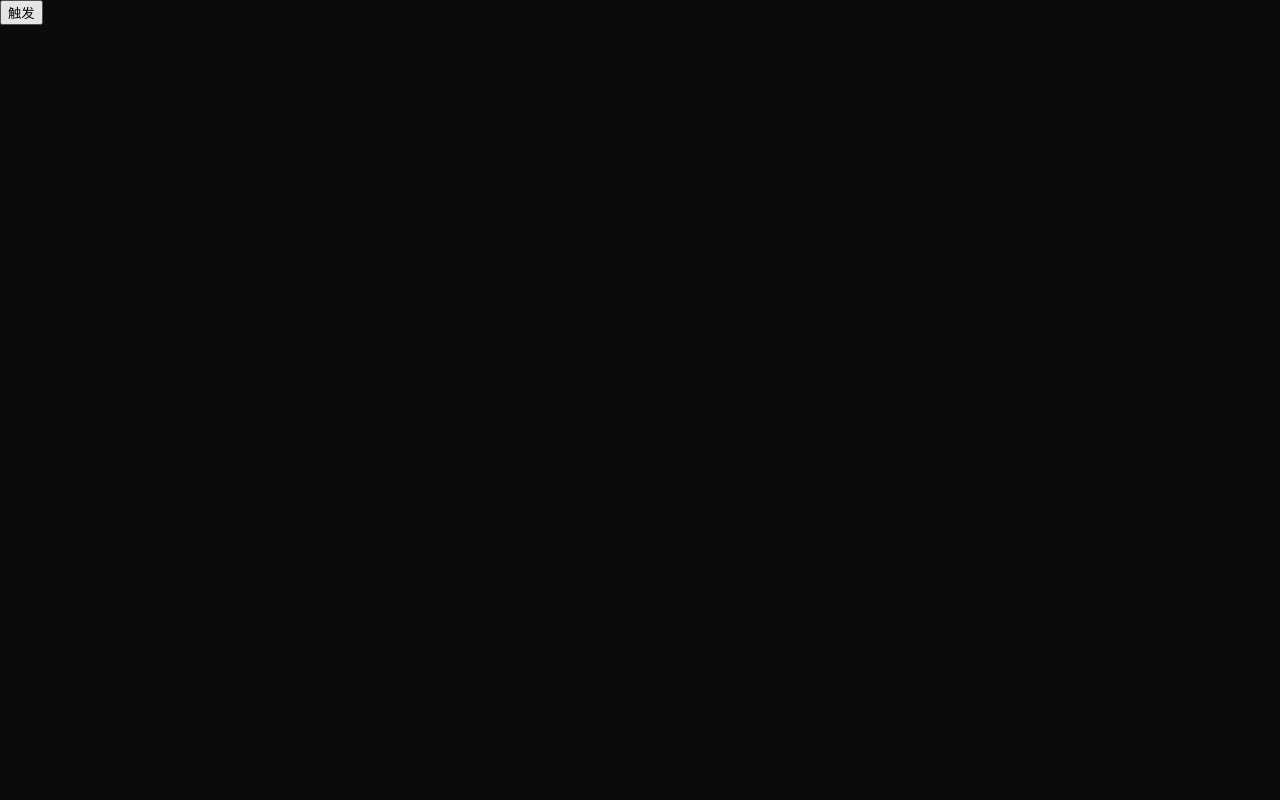
CommandPalette › 输入动作标题时只保留匹配的动作，节点结果为空
Type keys "{Control>}k{/Control}"
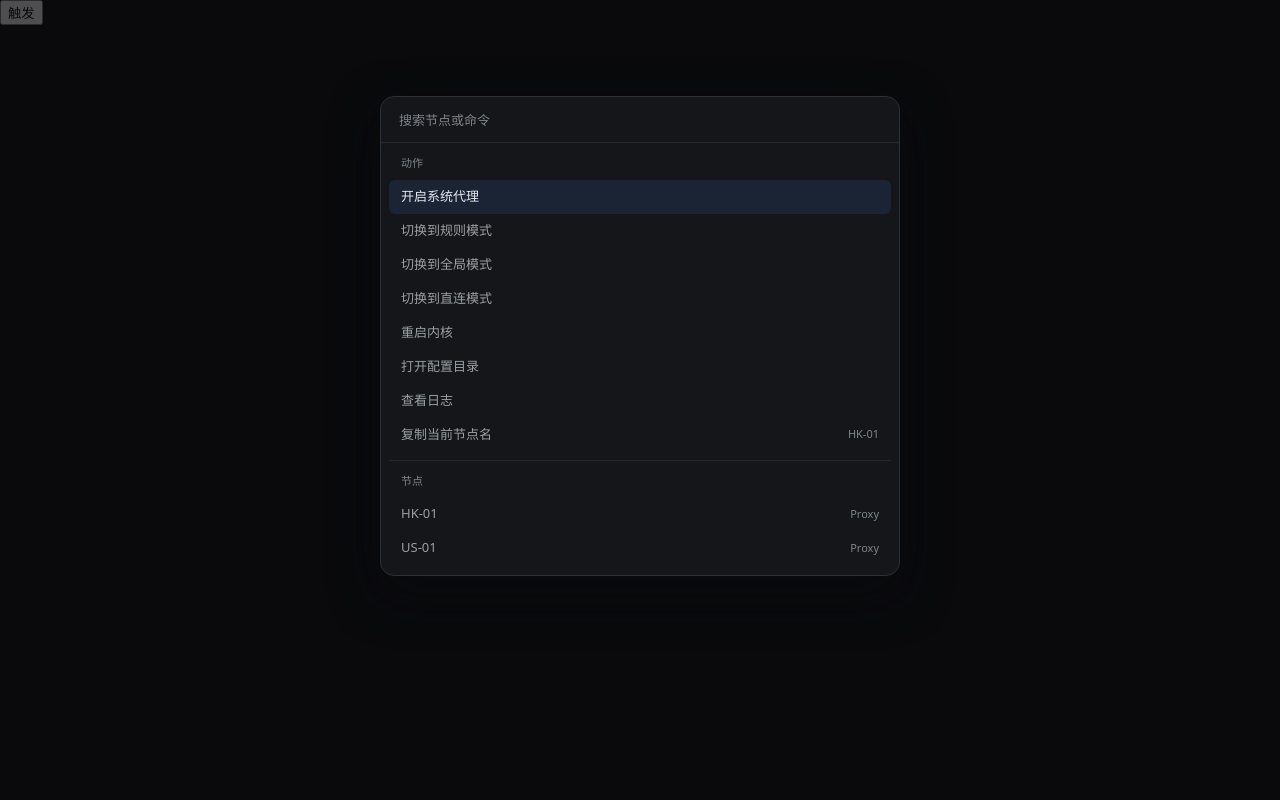
Type "重启" into the dropdown labelled "搜索节点或命令" at [640, 120], box x1=381 y1=97 x2=899 y2=143
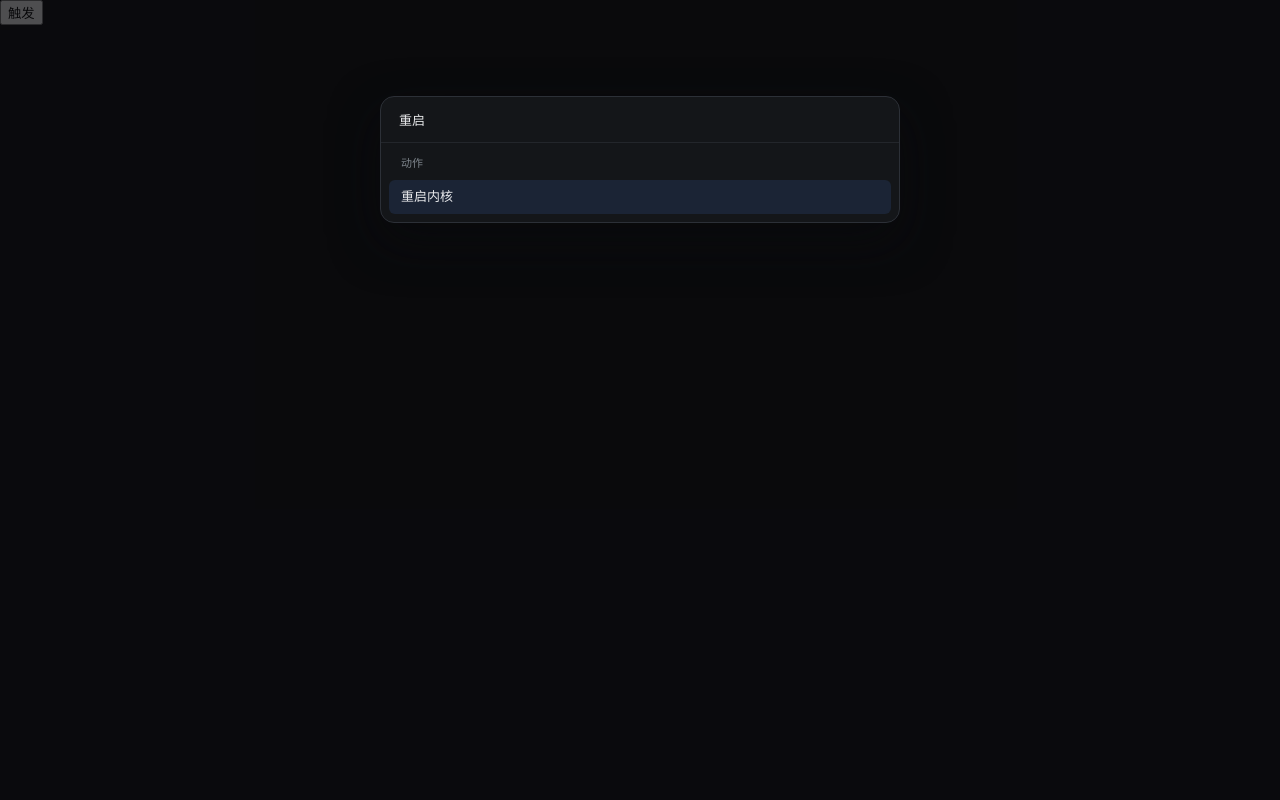
expect the option "重启内核" is shown: met, box x1=389 y1=180 x2=891 y2=214
expect the option "HK-01" is gone: met
